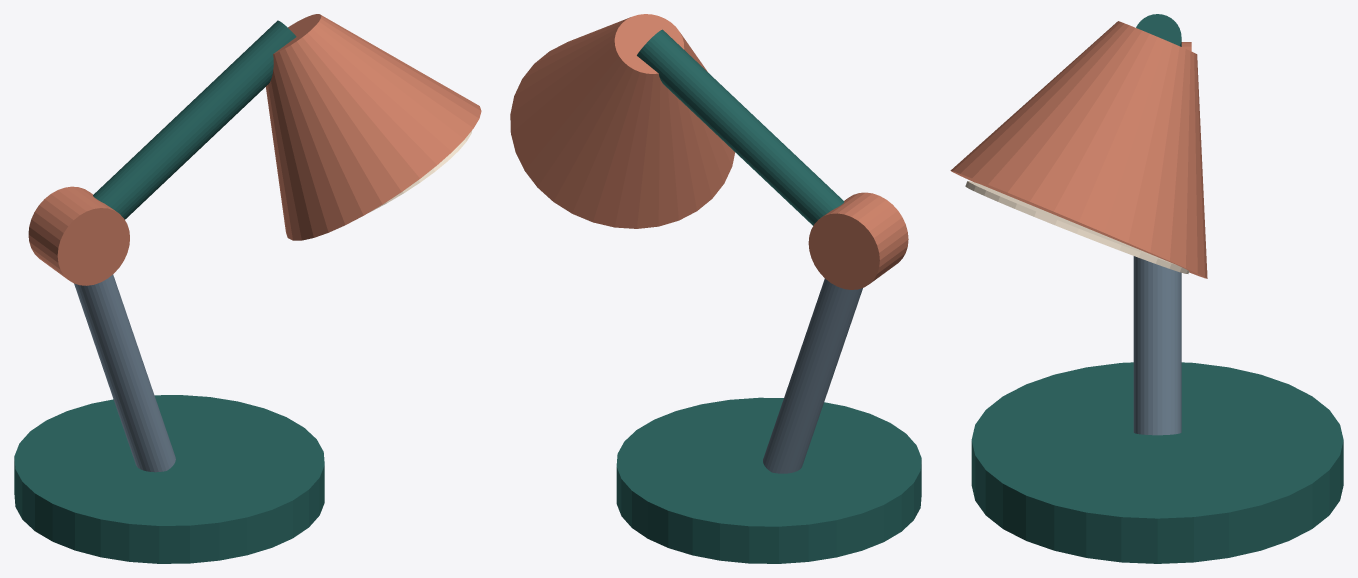
The model's file is lamp.glb.
3 renders of one model, left to right at view 1: azimuth 30°, elevation 25°; view 2: azimuth 150°, elevation 25°; view 3: azimuth 270°, elevation 25°, orthographic. The views are drawn at different scales.
Visible parts, largest first — view 1: base, shade, upper arm, lower arm, joint; view 2: base, shade, upper arm, lower arm, joint; view 3: base, shade, lower arm, diffuser, upper arm.
Part boxes in pixels (<box>): base: <box>14,395,324,563</box>; shade: <box>266,14,481,240</box>; upper arm: <box>93,20,296,219</box>; lower arm: <box>74,274,175,472</box>; joint: <box>28,186,129,285</box>; base: <box>616,397,921,563</box>; shade: <box>510,14,735,228</box>; upper arm: <box>637,29,844,225</box>; lower arm: <box>763,278,862,473</box>; joint: <box>808,192,908,289</box>; base: <box>971,362,1343,563</box>; shade: <box>950,21,1207,278</box>; lower arm: <box>1133,256,1181,435</box>; diffuser: <box>965,181,1189,273</box>; upper arm: <box>1136,14,1181,46</box>.
Size of the model in its own units: 1.58 by 1.67 by 1.1.
